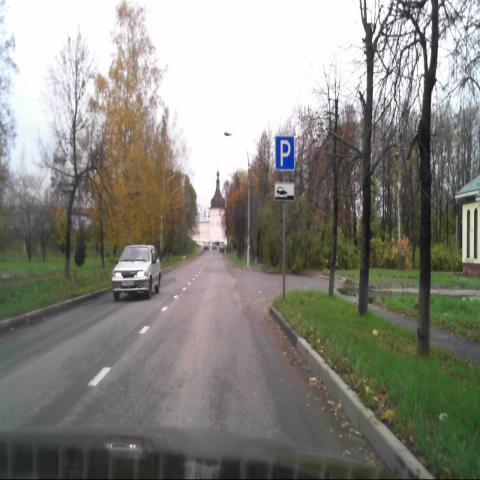8_6_4: (274, 183, 294, 201)
